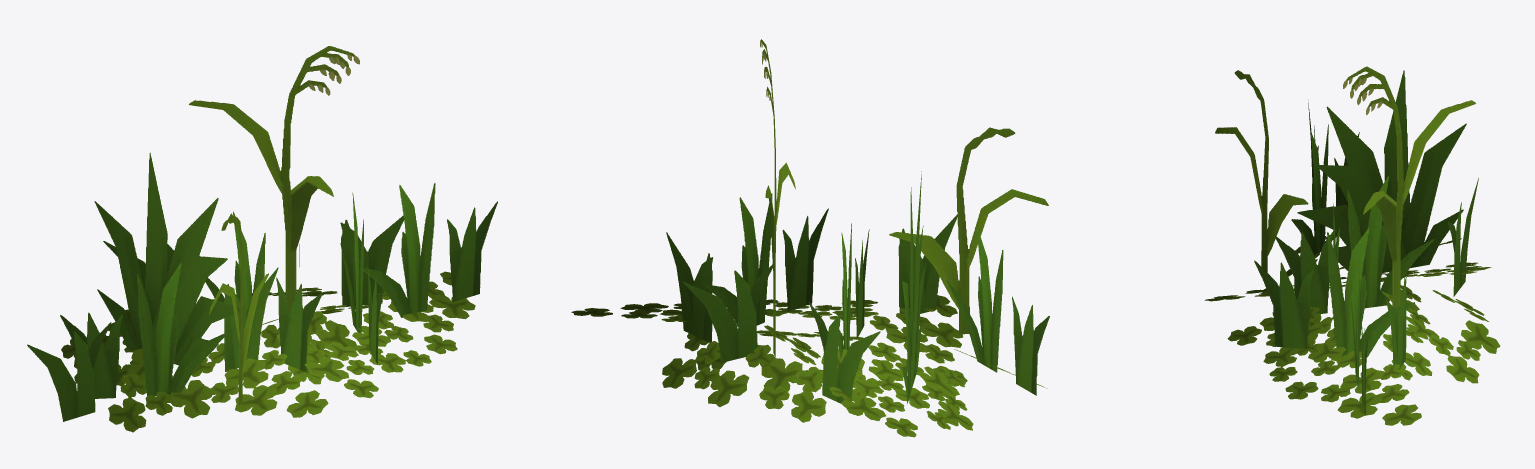
Rendered from mk_clover.glb.
The picture shows the model from 3 angles, left to right: view 1: azimuth 30°, elevation 25°; view 2: azimuth 150°, elevation 25°; view 3: azimuth 270°, elevation 25°; orthographic projection. The views are drawn at different scales.
Visible parts, largest first — view 1: SM_Env_Ground_Cover_01_LOD0; view 2: SM_Env_Ground_Cover_01_LOD0; view 3: SM_Env_Ground_Cover_01_LOD0.
Part boxes in pixels (x1,y1,x2,y2): SM_Env_Ground_Cover_01_LOD0: (27,46,497,432); SM_Env_Ground_Cover_01_LOD0: (571,39,1049,437); SM_Env_Ground_Cover_01_LOD0: (1205,66,1500,425).
Bounding box in the file's own units: 2.07 × 1.14 × 1.14.
Materials: 1 (1 with a texture image).
